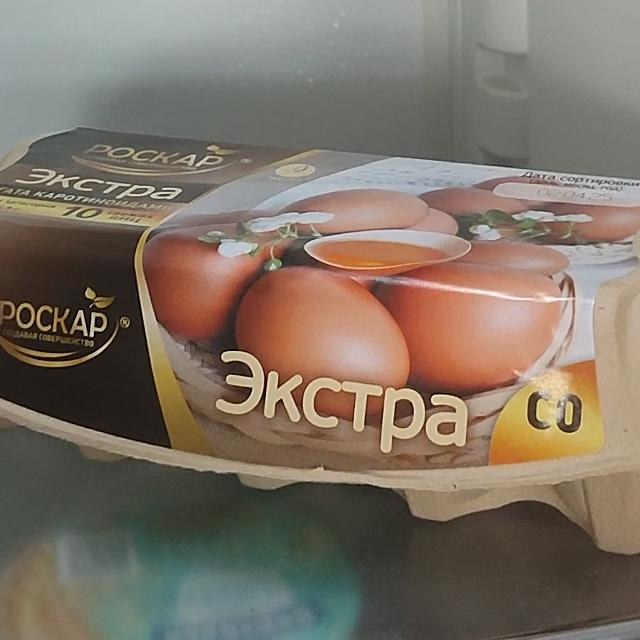egg: (0, 116, 640, 562)
